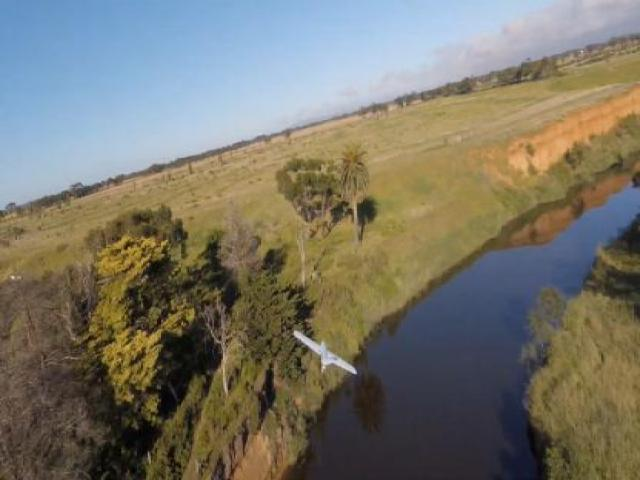uav: (292, 328, 358, 376)
